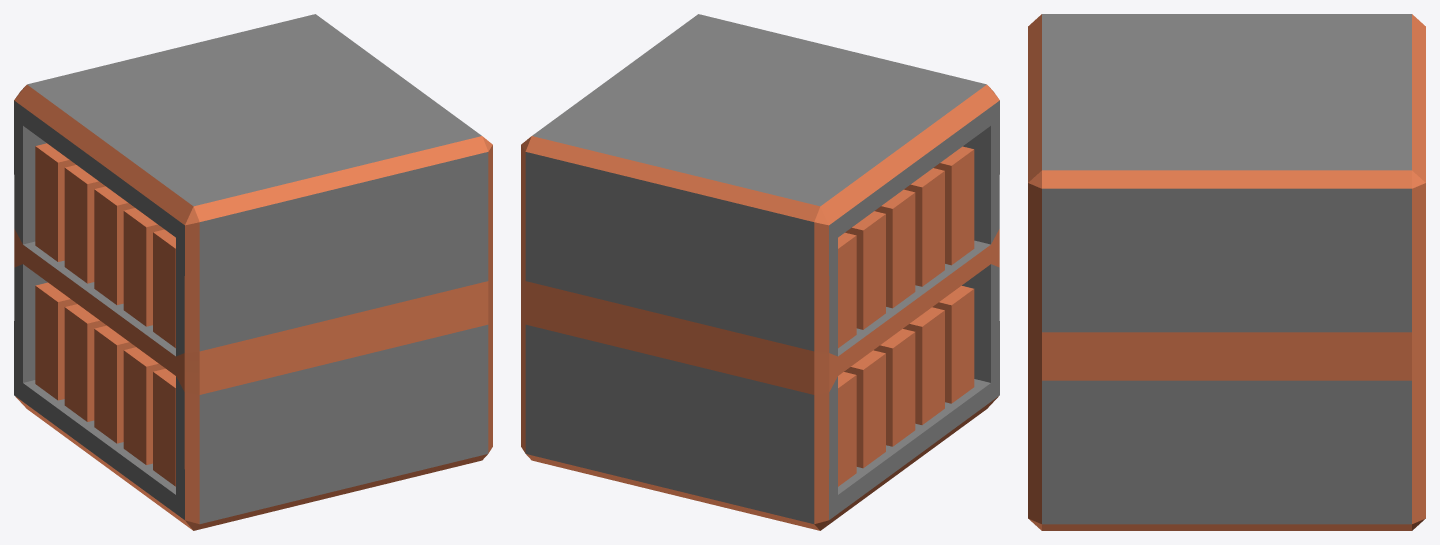
Rendered from btc_miner.glb.
3 renders of one model, left to right at view 1: azimuth 30°, elevation 25°; view 2: azimuth 150°, elevation 25°; view 3: azimuth 270°, elevation 25°, orthographic. The views are drawn at different scales.
Visible parts, largest first — view 1: Cube, gpu, gpu.001; view 2: Cube, gpu, gpu.001; view 3: Cube.
Part boxes in pixels (x1,y1,x2,y2): Cube: (14, 14, 492, 530); gpu: (35, 143, 175, 348); gpu.001: (35, 282, 175, 486); Cube: (521, 14, 999, 530); gpu: (838, 146, 974, 348); gpu.001: (838, 285, 974, 486); Cube: (1028, 14, 1425, 530).
Size of the model in its own units: 0.9978 by 0.9978 by 0.9978.
